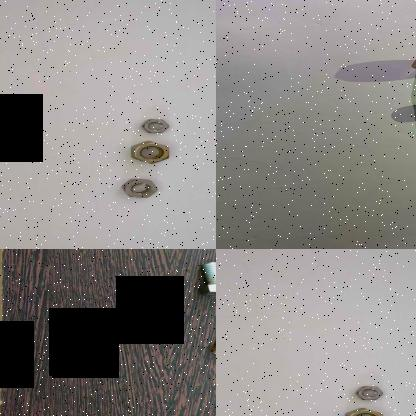Bolts: (184, 259, 216, 299), (199, 317, 216, 357)
NUTS: (129, 140, 173, 168), (117, 177, 161, 201), (349, 384, 385, 404), (138, 116, 176, 134), (393, 100, 416, 121), (339, 406, 384, 416)
